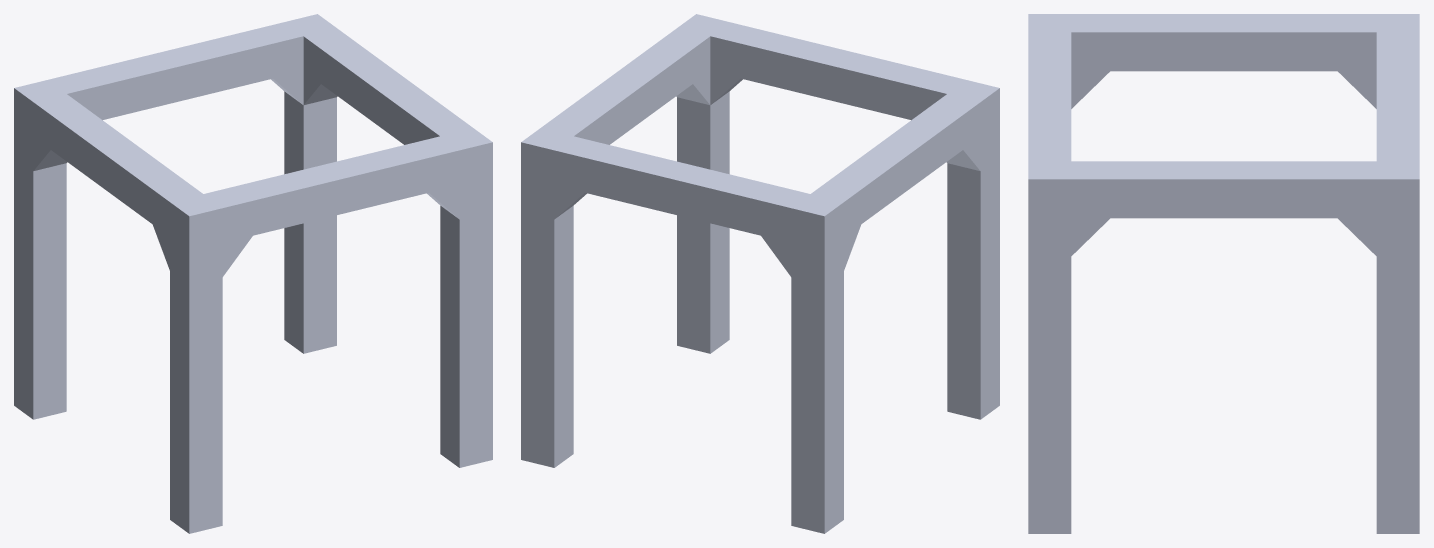
The picture shows the model from 3 angles, left to right: view 1: azimuth 30°, elevation 25°; view 2: azimuth 150°, elevation 25°; view 3: azimuth 270°, elevation 25°; orthographic projection. The views are drawn at different scales.
Parts seen in each view (by area): view 1: object_035; view 2: object_035; view 3: object_035.
Boxes of the visible parts, left/top/right/bottom form: object_035: left=14, top=14, right=492, bottom=533; object_035: left=521, top=14, right=999, bottom=533; object_035: left=1028, top=14, right=1419, bottom=533.
Bounding box in the file's own units: 10 × 10 × 10.
